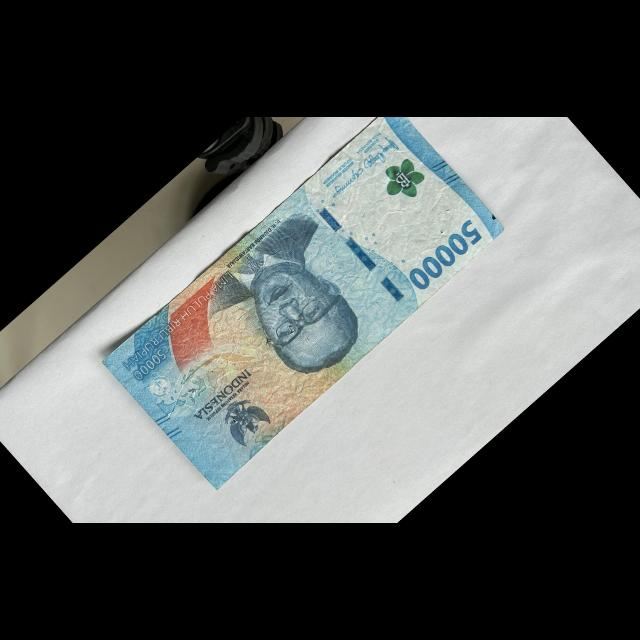Palsu-50k: (96, 96, 509, 496)
Tinta-Palsu-50k: (373, 151, 432, 211)
